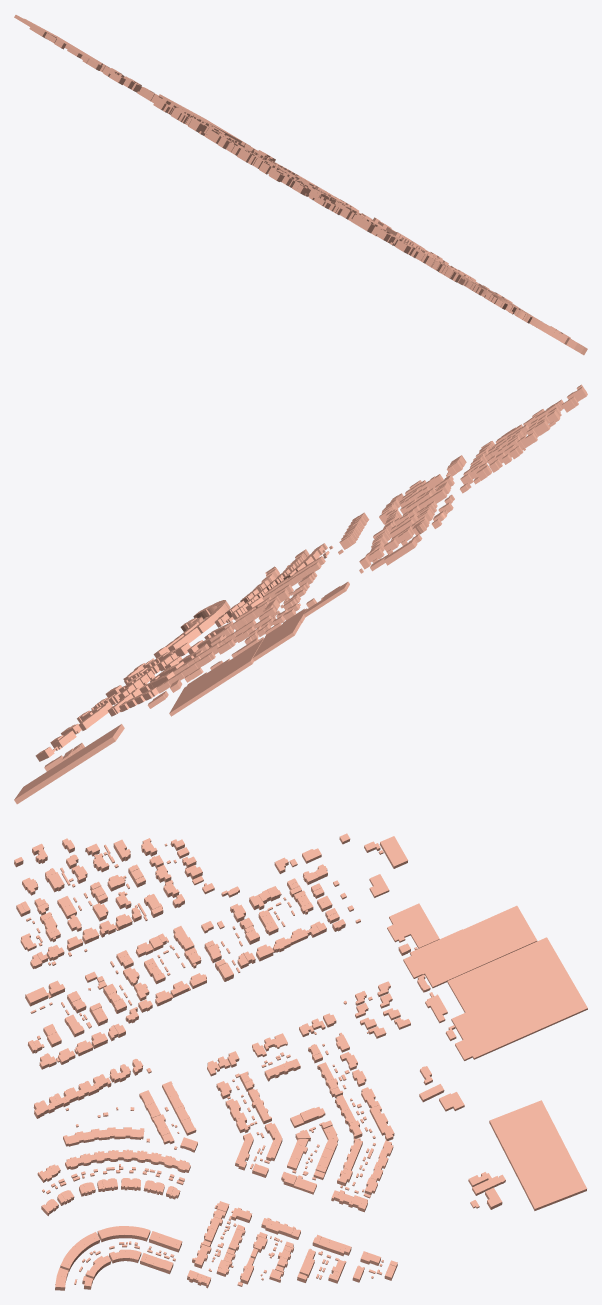
The picture shows the model from 3 angles, top to bottom: view 1: azimuth 30°, elevation 25°; view 2: azimuth 150°, elevation 25°; view 3: azimuth 270°, elevation 25°; orthographic projection. The views are drawn at different scales.
Size of the model in its own units: 504 by 382 by 688.
